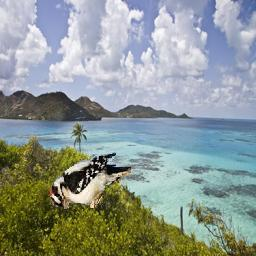Woodpecker: (51, 153, 134, 212)
